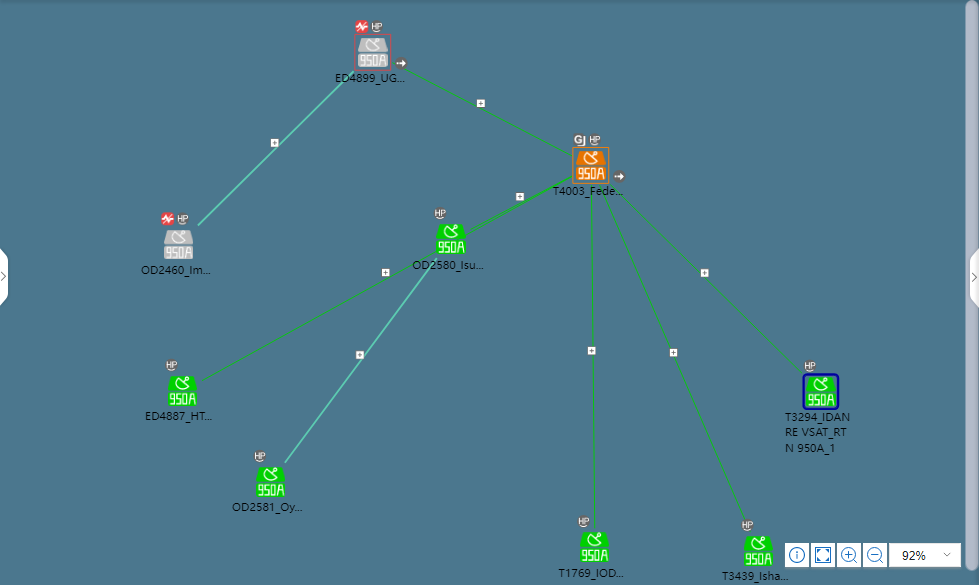Link_Blue: (285, 259, 433, 458), (193, 69, 352, 233)
Link_Green: (597, 185, 754, 539), (609, 185, 802, 374), (199, 253, 425, 386), (395, 63, 577, 156), (468, 173, 577, 231), (590, 416, 601, 533)
RTN_Gray: (162, 228, 197, 263), (358, 39, 393, 74)
RTN_Green: (254, 467, 289, 502), (805, 375, 840, 410), (437, 222, 467, 257), (743, 534, 771, 569), (168, 375, 196, 410), (578, 534, 613, 562)
RTN_Orange: (572, 149, 606, 184)
